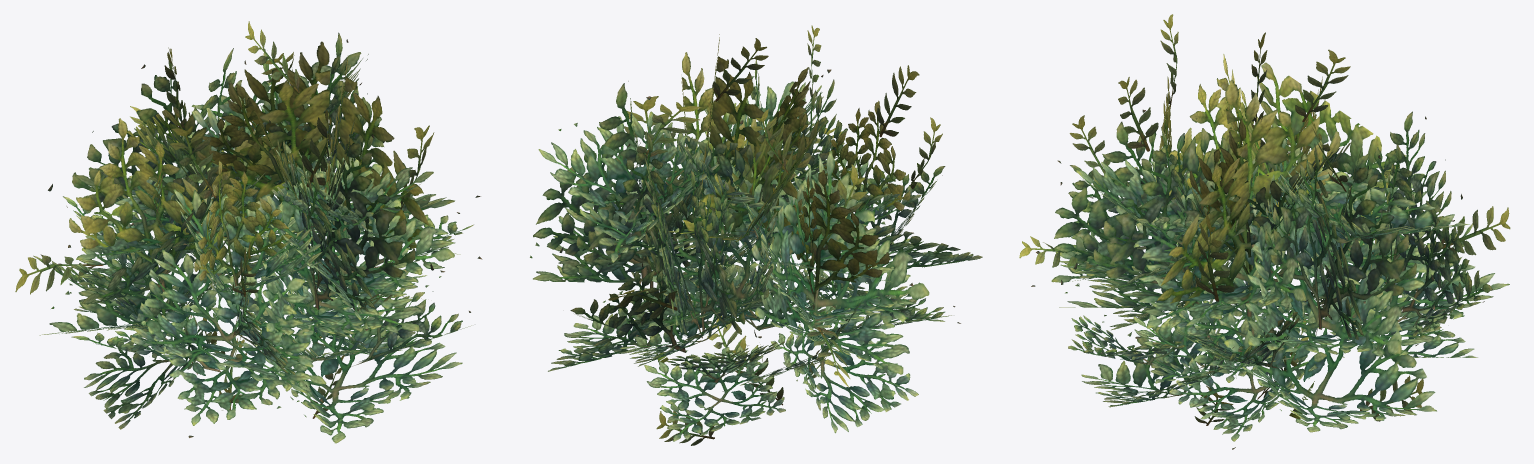
Rendered from Yland1_Zb_09_Yland1.FBX.
3 views of the same model, side by side, from view 1: azimuth 30°, elevation 25°; view 2: azimuth 150°, elevation 25°; view 3: azimuth 270°, elevation 25° (orthographic). The views are drawn at different scales.
Visible parts, largest first — view 1: Yland1_Zb_09_Yland1; view 2: Yland1_Zb_09_Yland1; view 3: Yland1_Zb_09_Yland1.
Part boxes in pixels (bbox=[...]): Yland1_Zb_09_Yland1: bbox=[15, 21, 482, 443]; Yland1_Zb_09_Yland1: bbox=[530, 25, 982, 445]; Yland1_Zb_09_Yland1: bbox=[1019, 14, 1510, 449].
Size of the model in its own units: 3.54 by 3.23 by 3.71.
